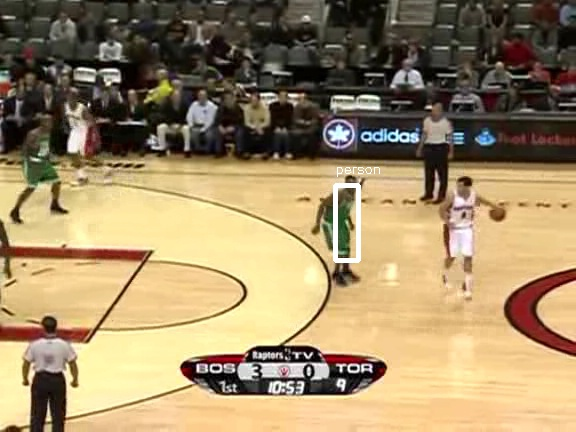person: (323, 185, 357, 266), (322, 185, 356, 266), (324, 185, 358, 266), (323, 184, 357, 265), (323, 186, 357, 267)
target_negative: (93, 253, 483, 381), (198, 23, 523, 161), (52, 25, 94, 402), (39, 143, 214, 217), (540, 203, 557, 335), (413, 313, 424, 340)
